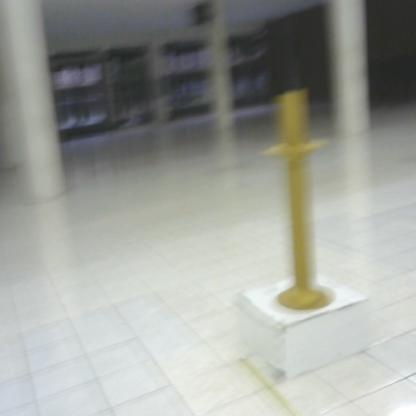pole: (259, 81, 350, 325)
